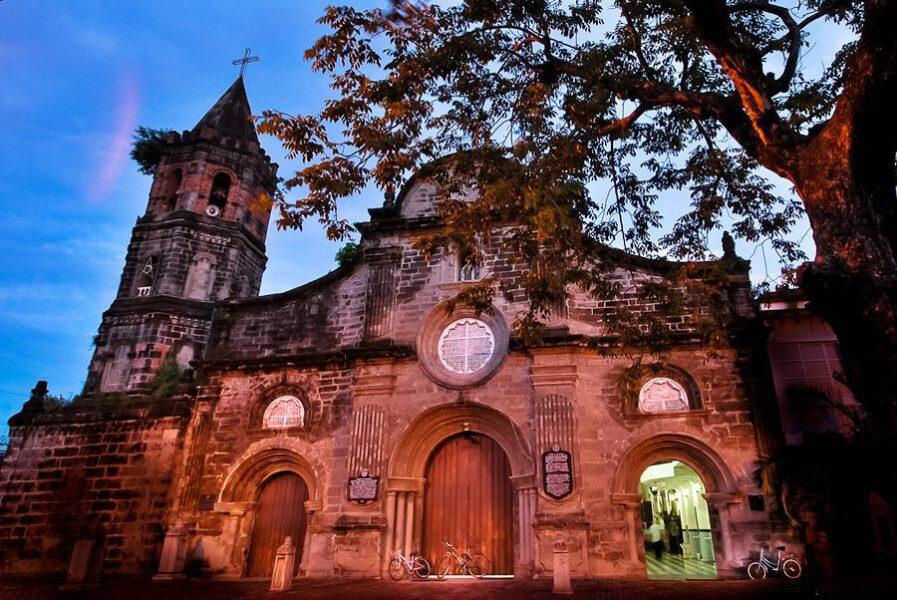barasoain_church_malolos_bulacan: (6, 44, 784, 578)
